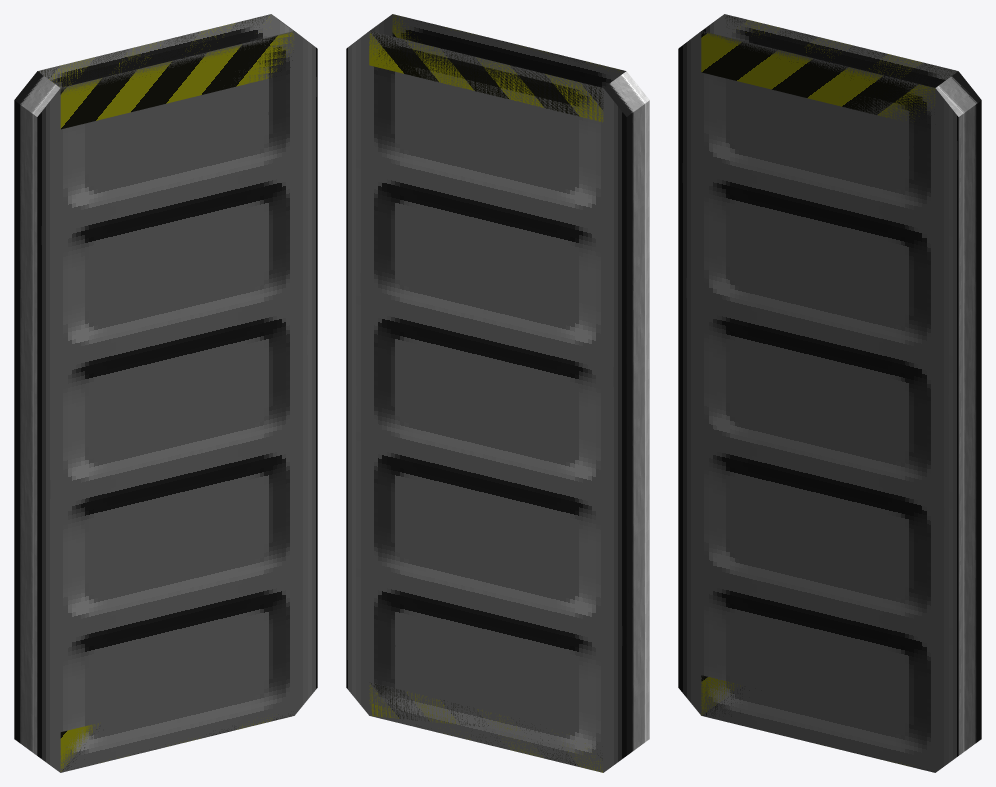
File: primary_127.glb
The picture shows the model from 3 angles, left to right: view 1: azimuth 30°, elevation 25°; view 2: azimuth 150°, elevation 25°; view 3: azimuth 330°, elevation 25°; orthographic projection.
Visible parts, largest first — view 1: Object; view 2: Object; view 3: Object.
Boxes of the visible parts, left/top/right/bottom form: Object: left=14, top=14, right=317, bottom=772; Object: left=346, top=14, right=649, bottom=772; Object: left=678, top=14, right=981, bottom=772.
Bounding box in the file's own units: 1.06 × 2.48 × 0.1516.
8 materials, 8 textured.
